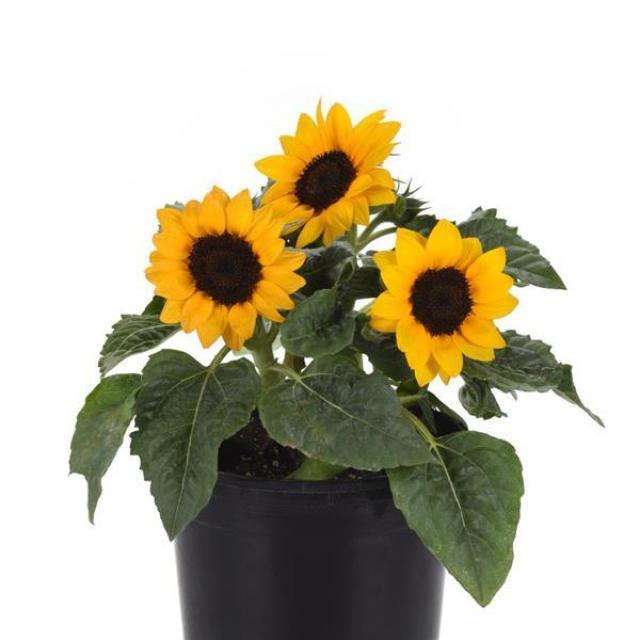sunflower: (144, 183, 306, 351), (366, 218, 518, 388), (254, 98, 401, 248)
